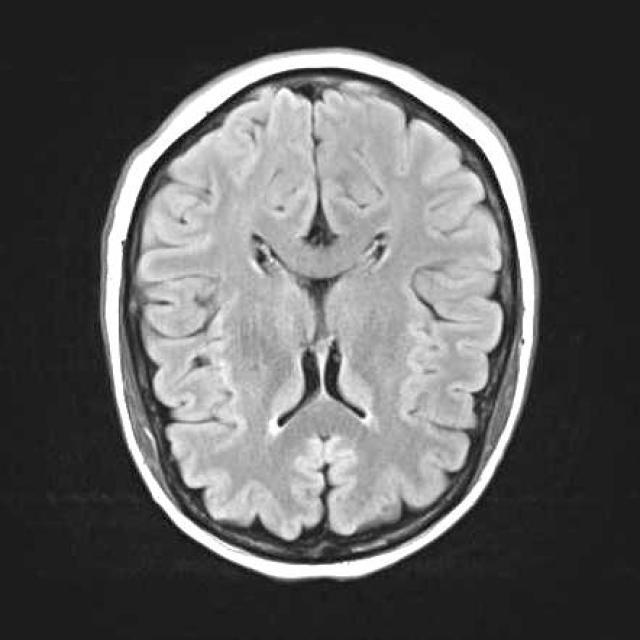notumor: (101, 49, 537, 578)
